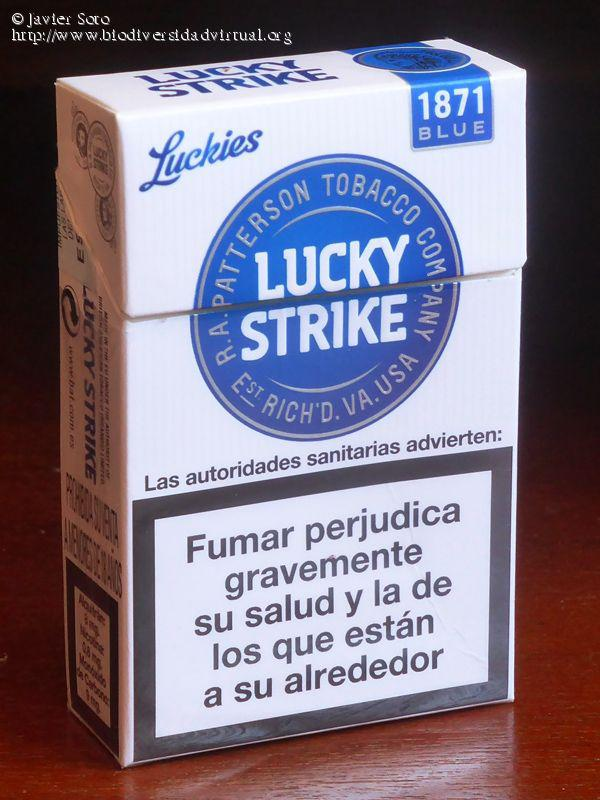lucky_strike_blue: (125, 80, 521, 696)
